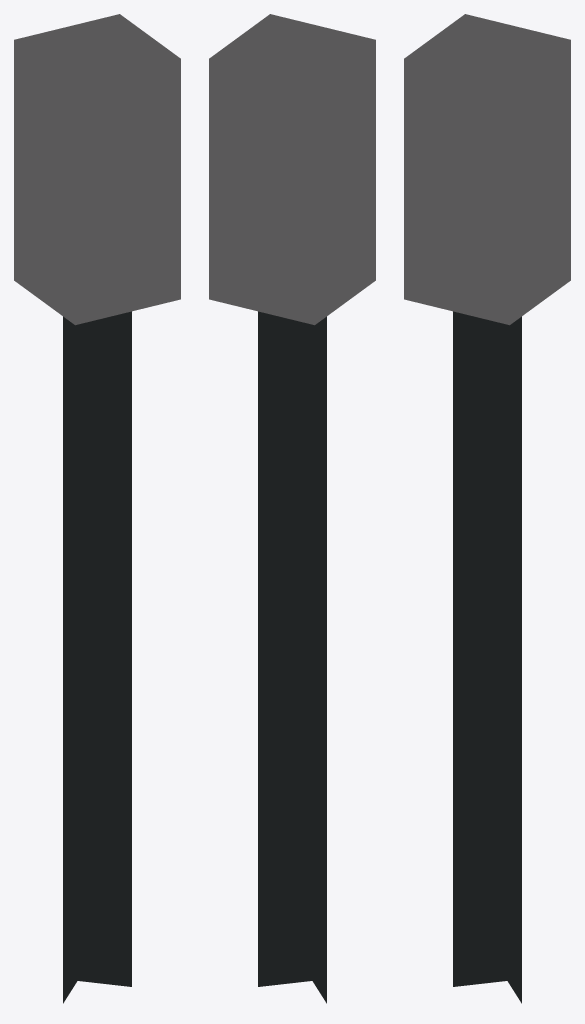
The model's file is RisingPlatformSmallCollision.obj.
3 renders of one model, left to right at view 1: azimuth 30°, elevation 25°; view 2: azimuth 150°, elevation 25°; view 3: azimuth 330°, elevation 25°, orthographic.
Size of the model in its own units: 53.77 by 460 by 53.77.
2 materials, 2 textured.
